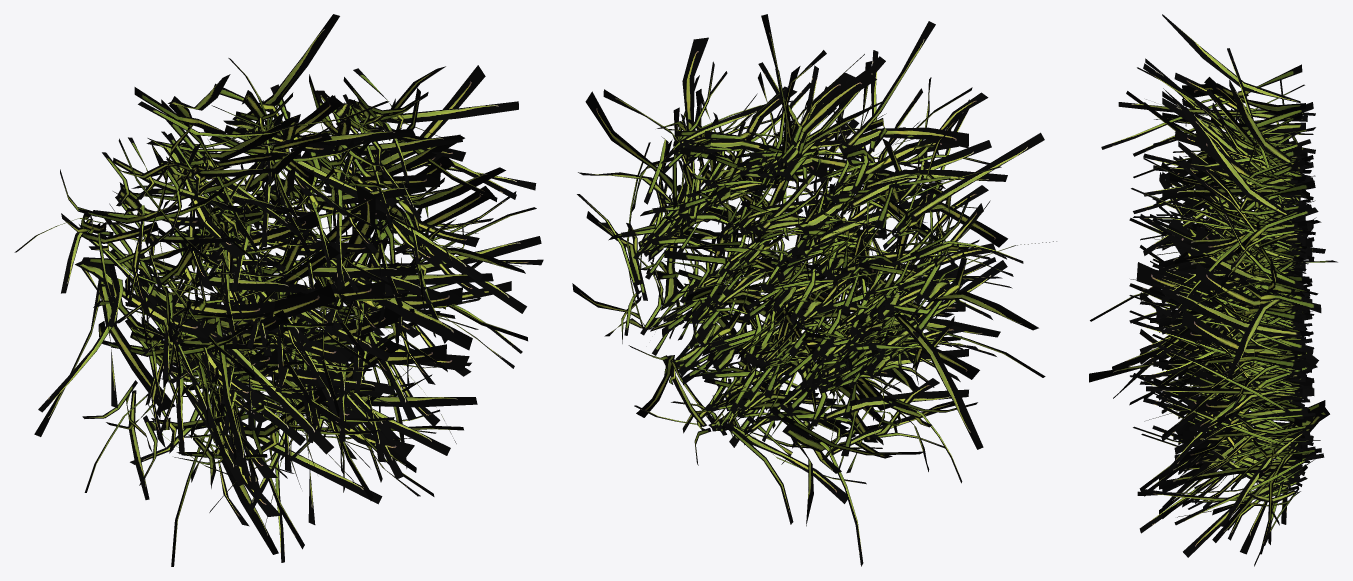
File: grass.obj
3 renders of one model, left to right at view 1: azimuth 30°, elevation 25°; view 2: azimuth 150°, elevation 25°; view 3: azimuth 270°, elevation 25°, orthographic. The views are drawn at different scales.
Visible parts, largest first — view 1: object_0; view 2: object_0; view 3: object_0.
Part boxes in pixels (box(x1,y1,x2,y2)): object_0: box(14, 14, 543, 566); object_0: box(572, 14, 1056, 566); object_0: box(1089, 14, 1337, 566).
Size of the model in its own units: 10.53 by 10.88 by 4.86.
Materials: 1 (1 with a texture image).
